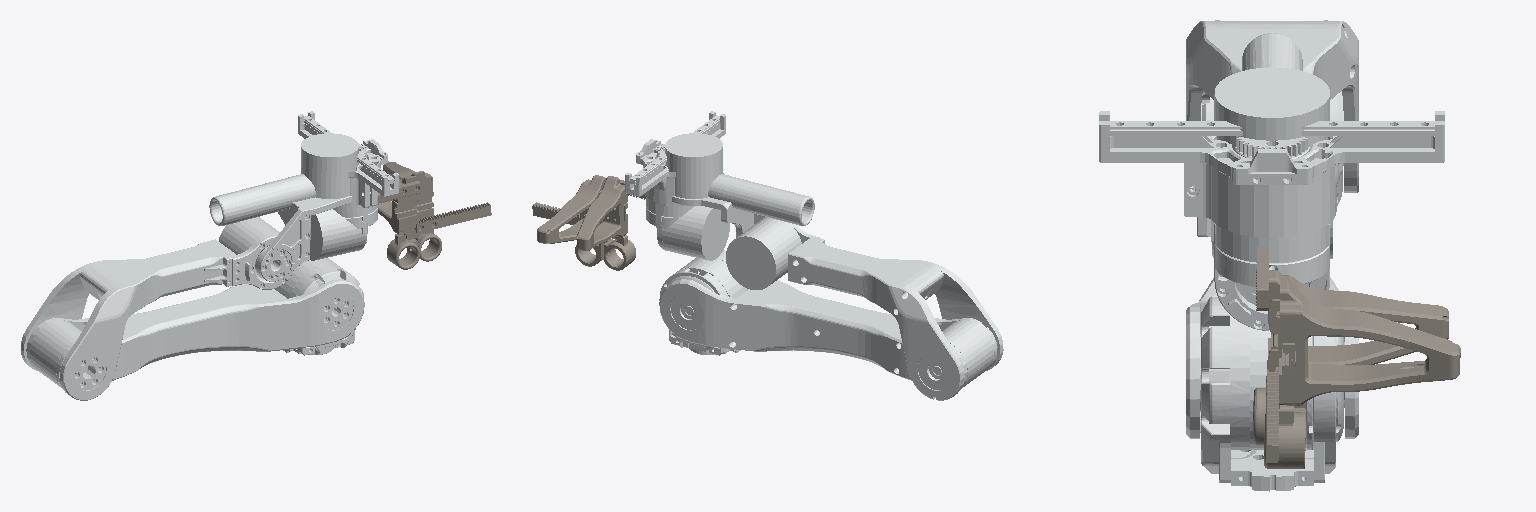
The robot description file, URDF, robot "000_Y1_arm_2to1claw.SLDASM":
<?xml version="1.0" encoding="utf-8"?>
<!-- This URDF was automatically created by SolidWorks to URDF Exporter! Originally created by Stephen Brawner (brawner@gmail.com) 
     Commit Version: 1.6.0-4-g7f85cfe  Build Version: 1.6.7995.38578
     For more information, please see http://wiki.ros.org/sw_urdf_exporter -->
<robot
  name="000_Y1_arm_2to1claw.SLDASM">
  <link name="world"/>
  <joint name="fixed_base_joint" type="fixed">
    <origin
      xyz="0 0 0"
      rpy="0 0 0" />
    <parent link="world"/>
    <child link="base_link"/>
    <axis
      xyz="0 0 1" />
  </joint>
  <link
    name="base_link">
    <inertial>
      <origin
        xyz="-9.09789029626031E-05 -1.00838762111356E-06 0.0341142783974825"
        rpy="0 0 0" />
      <mass
        value="0.630484112037129" />
      <inertia
        ixx="0.000410475542409659"
        ixy="6.62504499788967E-08"
        ixz="2.20725015722797E-07"
        iyy="0.000409696540187415"
        iyz="-9.52578419911164E-09"
        izz="0.000488804326955829" />
    </inertial>
    <visual>
      <origin
        xyz="0 0 0"
        rpy="0 0 0" />
      <geometry>
        <mesh
          filename="package://y1_description/meshes_2to1/base_link.STL" />
      </geometry>
      <material
        name="">
        <color
          rgba="0.898039215686275 0.917647058823529 0.929411764705882 1" />
      </material>
    </visual>
    <collision>
      <origin
        xyz="0 0 0"
        rpy="0 0 0" />
      <geometry>
        <mesh
          filename="package://y1_description/meshes_2to1/base_link.STL" />
      </geometry>
    </collision>
  </link>
  <link
    name="Link1">
    <inertial>
      <origin
        xyz="0.000681166801672071 -0.00046232914455336 0.045774892481422"
        rpy="0 0 0" />
      <mass
        value="0.465086237348566" />
      <inertia
        ixx="0.000229226849289421"
        ixy="6.51443398285894E-09"
        ixz="4.13823216869872E-08"
        iyy="0.000349392243512686"
        iyz="4.09909327547663E-06"
        izz="0.000228246849171451" />
    </inertial>
    <visual>
      <origin
        xyz="0 0 0"
        rpy="0 0 0" />
      <geometry>
        <mesh
          filename="package://y1_description/meshes_2to1/Link1.STL" />
      </geometry>
      <material
        name="">
        <color
          rgba="0.898039215686275 0.917647058823529 0.929411764705882 1" />
      </material>
    </visual>
    <collision>
      <origin
        xyz="0 0 0"
        rpy="0 0 0" />
      <geometry>
        <mesh
          filename="package://y1_description/meshes_2to1/Link1.STL" />
      </geometry>
    </collision>
  </link>
  <joint
    name="Joint1"
    type="revolute">
    <origin
      xyz="0 0 0.06675"
      rpy="0 0 0" />
    <parent
      link="base_link" />
    <child
      link="Link1" />
    <axis
      xyz="0 0 -1" />
    <limit
      lower="0"
      upper="0"
      effort="9"
      velocity="0" />
  </joint>
  <link
    name="Link2">
    <inertial>
      <origin
        xyz="-0.18883363836199 -0.00103696749691735 -0.000652233498703338"
        rpy="0 0 0" />
      <mass
        value="1.00848298846255" />
      <inertia
        ixx="0.000410794336332579"
        ixy="-8.40217278690792E-05"
        ixz="8.54409137580295E-06"
        iyy="0.0060417092412649"
        iyz="-2.44381601939707E-07"
        izz="0.00611040782664147" />
    </inertial>
    <visual>
      <origin
        xyz="0 0 0"
        rpy="0 0 0" />
      <geometry>
        <mesh
          filename="package://y1_description/meshes_2to1/Link2.STL" />
      </geometry>
      <material
        name="">
        <color
          rgba="0.898039215686275 0.917647058823529 0.929411764705882 1" />
      </material>
    </visual>
    <collision>
      <origin
        xyz="0 0 0"
        rpy="0 0 0" />
      <geometry>
        <mesh
          filename="package://y1_description/meshes_2to1/Link2.STL" />
      </geometry>
    </collision>
  </link>
  <joint
    name="Joint2"
    type="revolute">
    <origin
      xyz="0.00075 0 0.055"
      rpy="1.5707963267949 0 0" />
    <parent
      link="Link1" />
    <child
      link="Link2" />
    <axis
      xyz="0 0 -1" />
    <limit
      lower="0"
      upper="0"
      effort="30"
      velocity="0" />
  </joint>
  <link
    name="Link3">
    <inertial>
      <origin
        xyz="0.133032369395304 0.0530016058529144 0.000290607464783963"
        rpy="0 0 0" />
      <mass
        value="0.839664047451371" />
      <inertia
        ixx="0.000602602152841581"
        ixy="0.000475019651698254"
        ixz="4.78547824051497E-06"
        iyy="0.00179992027196969"
        iyz="2.90178956983618E-06"
        izz="0.00208247690008721" />
    </inertial>
    <visual>
      <origin
        xyz="0 0 0"
        rpy="0 0 0" />
      <geometry>
        <mesh
          filename="package://y1_description/meshes_2to1/Link3.STL" />
      </geometry>
      <material
        name="">
        <color
          rgba="0.898039215686275 0.917647058823529 0.929411764705882 1" />
      </material>
    </visual>
    <collision>
      <origin
        xyz="0 0 0"
        rpy="0 0 0" />
      <geometry>
        <mesh
          filename="package://y1_description/meshes_2to1/Link3.STL" />
      </geometry>
    </collision>
  </link>
  <joint
    name="Joint3"
    type="revolute">
    <origin
      xyz="-0.28 0 0"
      rpy="0 0 0" />
    <parent
      link="Link2" />
    <child
      link="Link3" />
    <axis
      xyz="0 0 -1" />
    <limit
      lower="0"
      upper="0"
      effort="9"
      velocity="0" />
  </joint>
  <link
    name="Link4">
    <inertial>
      <origin
        xyz="0.0666890671297201 0.061249505361484 0.00493164049114361"
        rpy="0 0 0" />
      <mass
        value="0.455192806560725" />
      <inertia
        ixx="0.000176582732613137"
        ixy="2.15495918248381E-05"
        ixz="-5.61631637175522E-06"
        iyy="0.000211179169445067"
        iyz="-5.37410070664354E-06"
        izz="0.000207766320179744" />
    </inertial>
    <visual>
      <origin
        xyz="0 0 0"
        rpy="0 0 0" />
      <geometry>
        <mesh
          filename="package://y1_description/meshes_2to1/Link4.STL" />
      </geometry>
      <material
        name="">
        <color
          rgba="0.898039215686275 0.917647058823529 0.929411764705882 1" />
      </material>
    </visual>
    <collision>
      <origin
        xyz="0 0 0"
        rpy="0 0 0" />
      <geometry>
        <mesh
          filename="package://y1_description/meshes_2to1/Link4.STL" />
      </geometry>
    </collision>
  </link>
  <joint
    name="Joint4"
    type="revolute">
    <origin
      xyz="0.215000000000004 0.0630000000000073 0"
      rpy="0 0 0" />
    <parent
      link="Link3" />
    <child
      link="Link4" />
    <axis
      xyz="0 0 -1" />
    <limit
      lower="0"
      upper="0"
      effort="9"
      velocity="0" />
  </joint>
  <link
    name="Link5">
    <inertial>
      <origin
        xyz="0.00248530581728849 1.71803824630881E-05 0.0400785531860572"
        rpy="0 0 0" />
      <mass
        value="0.373508569742983" />
      <inertia
        ixx="0.00016414068497646"
        ixy="1.01562762133299E-07"
        ixz="8.98033278270026E-06"
        iyy="0.000150227046495623"
        iyz="7.2756432239469E-07"
        izz="0.000141442797294447" />
    </inertial>
    <visual>
      <origin
        xyz="0 0 0"
        rpy="0 0 0" />
      <geometry>
        <mesh
          filename="package://y1_description/meshes_2to1/Link5.STL" />
      </geometry>
      <material
        name="">
        <color
          rgba="0.898039215686275 0.917647058823529 0.929411764705882 1" />
      </material>
    </visual>
    <collision>
      <origin
        xyz="0 0 0"
        rpy="0 0 0" />
      <geometry>
        <mesh
          filename="package://y1_description/meshes_2to1/Link5.STL" />
      </geometry>
    </collision>
  </link>
  <joint
    name="Joint5"
    type="revolute">
    <origin
      xyz="0.0799999999999998 0.0519999999999981 0.000249997832942123"
      rpy="1.5707963267949 0 0" />
    <parent
      link="Link4" />
    <child
      link="Link5" />
    <axis
      xyz="0 0 -1" />
    <limit
      lower="0"
      upper="0"
      effort="3"
      velocity="0" />
  </joint>
  <link
    name="Link6">
    <inertial>
      <origin
        xyz="0.0108106656274518 0.000127504395052592 0.00016010488602905"
        rpy="0 0 0" />
      <mass
        value="0.0724468602058996" />
      <inertia
        ixx="3.15031267100887E-05"
        ixy="-1.31150970829828E-08"
        ixz="-1.64301978495266E-08"
        iyy="1.66634761480036E-05"
        iyz="1.49361456762624E-07"
        izz="1.66897035808186E-05" />
    </inertial>
    <visual>
      <origin
        xyz="0 0 0"
        rpy="0 0 0" />
      <geometry>
        <mesh
          filename="package://y1_description/meshes_2to1/Link6.STL" />
      </geometry>
      <material
        name="">
        <color
          rgba="0.898039215686275 0.917647058823529 0.929411764705882 1" />
      </material>
    </visual>
    <collision>
      <origin
        xyz="0 0 0"
        rpy="0 0 0" />
      <geometry>
        <mesh
          filename="package://y1_description/meshes_2to1/Link6.STL" />
      </geometry>
    </collision>
  </link>
  <joint
    name="Joint6"
    type="revolute">
    <origin
      xyz="0.0235 0 0.0440000000000001"
      rpy="-3.14159265330655 0 0" />
    <parent
      link="Link5" />
    <child
      link="Link6" />
    <axis
      xyz="-1 0 0" />
    <limit
      lower="0"
      upper="0"
      effort="3"
      velocity="0" />
  </joint>
  <link
    name="gripper_base">
    <inertial>
      <origin
        xyz="-0.00722300540551239 -2.86486663753245E-07 -0.0281150308975901"
        rpy="0 0 0" />
      <mass
        value="0.436099620967633" />
      <inertia
        ixx="0.000287710583661291"
        ixy="3.44385407705657E-08"
        ixz="7.67912196951726E-07"
        iyy="0.000225234897934958"
        iyz="2.12149752062353E-10"
        izz="0.000396215714285049" />
    </inertial>
    <visual>
      <origin
        xyz="0 0 0"
        rpy="0 0 0" />
      <geometry>
        <mesh
          filename="package://y1_description/meshes_2to1/gripper_base.STL" />
      </geometry>
      <material
        name="">
        <color
          rgba="0.792156862745098 0.819607843137255 0.933333333333333 1" />
      </material>
    </visual>
    <collision>
      <origin
        xyz="0 0 0"
        rpy="0 0 0" />
      <geometry>
        <mesh
          filename="package://y1_description/meshes_2to1/gripper_base.STL" />
      </geometry>
    </collision>
  </link>
  <joint
    name="gripper_base"
    type="fixed">
    <origin
      xyz="0.0758 0 0"
      rpy="1.57079745225378 -1.57079631189374 1.57079520133601" />
    <parent
      link="Link6" />
    <child
      link="gripper_base" />
    <axis
      xyz="0 0 0" />
  </joint>
  <link
    name="Claw_Link_L">
    <inertial>
      <origin
        xyz="-0.0155280903999977 -0.00524432955348172 0.0238751429212767"
        rpy="0 0 0" />
      <mass
        value="0.0661690926183051" />
      <inertia
        ixx="1.90679558147809E-05"
        ixy="-2.28252111619455E-11"
        ixz="1.49447787556152E-06"
        iyy="1.66105397877526E-05"
        iyz="4.52087730748339E-07"
        izz="8.26385767759474E-06" />
    </inertial>
    <visual>
      <origin
        xyz="0 0 0"
        rpy="0 0 0" />
      <geometry>
        <mesh
          filename="package://y1_description/meshes_2to1/Claw_Link_L.STL" />
      </geometry>
      <material
        name="">
        <color
          rgba="0.647058823529412 0.619607843137255 0.588235294117647 1" />
      </material>
    </visual>
    <collision>
      <origin
        xyz="0 0 0"
        rpy="0 0 0" />
      <geometry>
        <mesh
          filename="package://y1_description/meshes_2to1/Claw_Link_L.STL" />
      </geometry>
    </collision>
  </link>
  <joint
    name="Claw_Link_L"
    type="prismatic">
    <origin
      xyz="0 -0.00275000000000102 0"
      rpy="0 0 -1.5707963267949" />
    <parent
      link="gripper_base" />
    <child
      link="Claw_Link_L" />
    <axis
      xyz="1 0 0" />
    <limit
      lower="-0.08"
      upper="0"
      effort="3"
      velocity="0" />
  </joint>
  <link
    name="Claw_Link_R">
    <inertial>
      <origin
        xyz="0.0155280396672701 -0.00524432898166968 0.0241082219765203"
        rpy="0 0 0" />
      <mass
        value="0.0661690929217921" />
      <inertia
        ixx="1.90679558239303E-05"
        ixy="-2.28356194437162E-11"
        ixz="-1.49447187113693E-06"
        iyy="1.66105397928983E-05"
        iyz="4.52088491262633E-07"
        izz="8.26385768904911E-06" />
    </inertial>
    <visual>
      <origin
        xyz="0 0 0"
        rpy="0 0 0" />
      <geometry>
        <mesh
          filename="package://y1_description/meshes_2to1/Claw_Link_R.STL" />
      </geometry>
      <material
        name="">
        <color
          rgba="0.647058823529412 0.619607843137255 0.588235294117647 1" />
      </material>
    </visual>
    <collision>
      <origin
        xyz="0 0 0"
        rpy="0 0 0" />
      <geometry>
        <mesh
          filename="package://y1_description/meshes_2to1/Claw_Link_R.STL" />
      </geometry>
    </collision>
  </link>
  <joint
    name="Claw_Link_R"
    type="prismatic">
    <origin
      xyz="0 0.00274999999999902 0"
      rpy="0 0 -1.5707963267949" />
    <parent
      link="gripper_base" />
    <child
      link="Claw_Link_R" />
    <axis
      xyz="1 0 0" />
    <limit
      lower="0"
      upper="0.08"
      effort="3"
      velocity="0" />
  </joint>
</robot>

--- Render facts (derived) ---
Views: 3 orthographic renders of the robot side by side, from view 1: azimuth 30°, elevation 25°; view 2: azimuth 150°, elevation 25°; view 3: azimuth 270°, elevation 25°.
Model 000_Y1_arm_2to1claw.SLDASM with 11 links and 10 joints (6 revolute, 2 prismatic, 2 fixed), rooted at world, posed every joint at zero.
Links seen in each view (by area): view 1: Link2, Link3, Link6, Link4, Claw_Link_R, Claw_Link_L, Link5, Link1; view 2: Link3, Link2, Link6, Link4, Claw_Link_R, Link5, Claw_Link_L, Link1; view 3: Link6, Link1, Claw_Link_L, Link3, Claw_Link_R, Link4, Link2, Link5.
Boxes of the visible links, box(x1,y1,x2,y2) form: Link2: box(26, 279, 364, 388); Link3: box(21, 217, 293, 400); Link6: box(209, 111, 398, 228); Link4: box(255, 133, 358, 281); Claw_Link_R: box(378, 176, 421, 269); Claw_Link_L: box(383, 162, 491, 261); Link5: box(310, 205, 367, 260); Link1: box(275, 258, 363, 355); Link3: box(726, 217, 1003, 400); Link2: box(659, 279, 997, 387); Link6: box(625, 111, 814, 228); Link4: box(665, 133, 764, 237); Claw_Link_R: box(577, 176, 645, 270); Link5: box(656, 203, 729, 260); Claw_Link_L: box(532, 175, 607, 266); Link1: box(659, 250, 748, 355); Link6: box(1099, 33, 1444, 287); Link1: box(1200, 296, 1343, 491); Claw_Link_L: box(1264, 281, 1460, 468); Link3: box(1186, 20, 1358, 258); Claw_Link_R: box(1253, 247, 1448, 444); Link4: box(1197, 67, 1329, 241); Link2: box(1186, 91, 1358, 438); Link5: box(1214, 223, 1329, 330).
Size in the robot's own frame: 0.5076 by 0.1775 by 0.2152 metres.
Meshes: 10 distinct files referenced, 8 mesh visuals loaded (8 binary STL); not drawn: 2 (reference not matched to a file when rendering).
